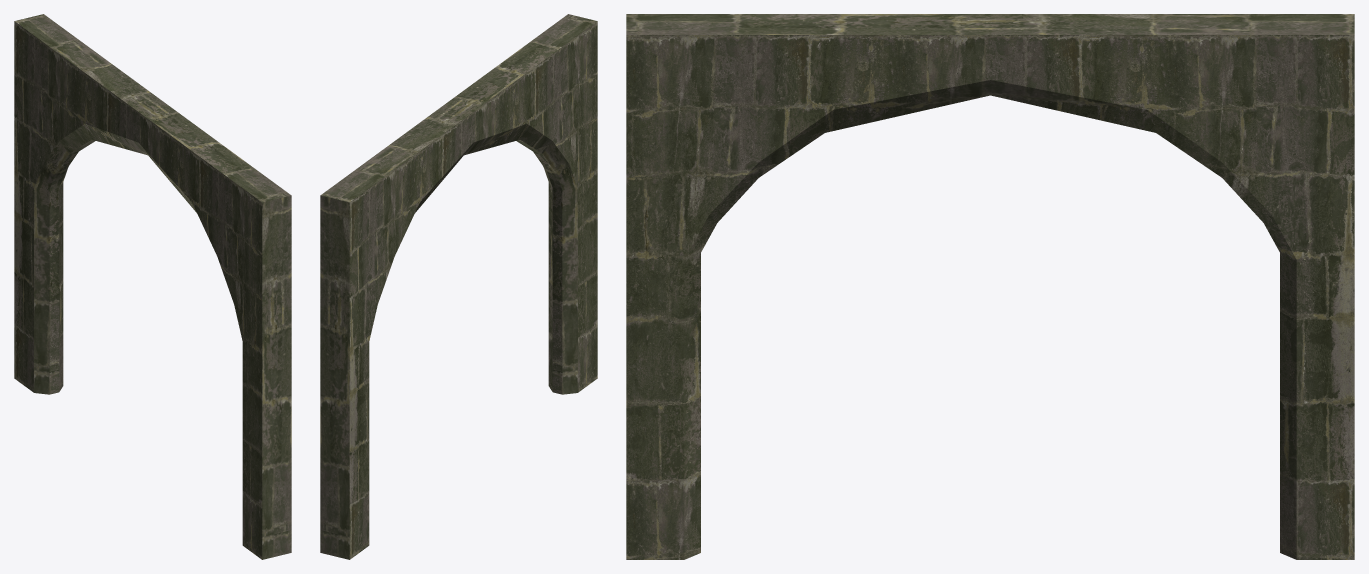
File: Wall_DoubleArchway.fbx
3 renders of one model, left to right at view 1: azimuth 30°, elevation 25°; view 2: azimuth 150°, elevation 25°; view 3: azimuth 270°, elevation 25°, orthographic. The views are drawn at different scales.
Parts seen in each view (by area): view 1: DoubleArchway; view 2: DoubleArchway; view 3: DoubleArchway.
Part boxes in pixels (x1,y1,x2,y2): DoubleArchway: (14, 14, 291, 559); DoubleArchway: (320, 14, 597, 559); DoubleArchway: (626, 14, 1354, 559).
Bounding box in the file's own units: 51 × 595 × 748.
